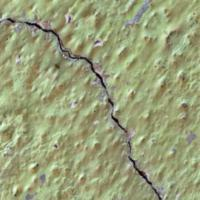crack: (0, 14, 169, 198)
